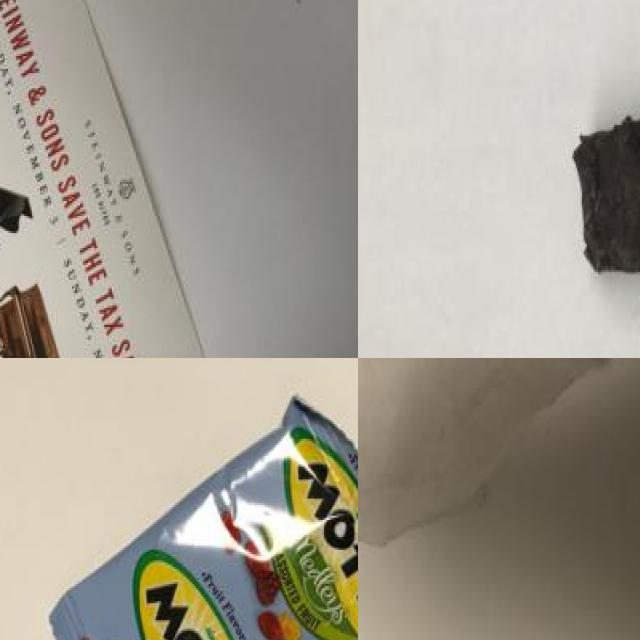compost: (562, 98, 640, 292)
paper: (0, 0, 236, 358)
trash: (35, 405, 358, 640), (358, 358, 634, 552)
